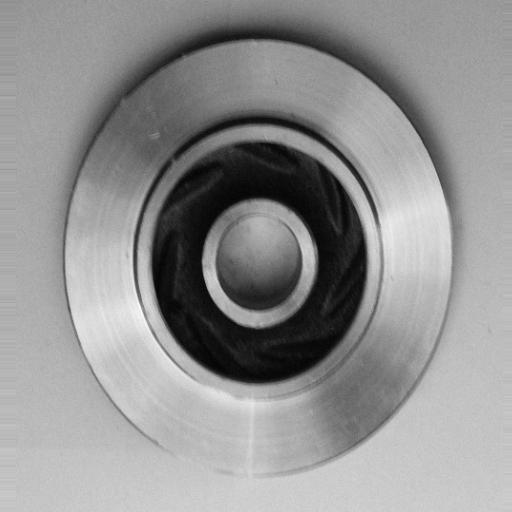scratch: (149, 436, 264, 487)
unpolished_casting: (67, 27, 457, 484)
